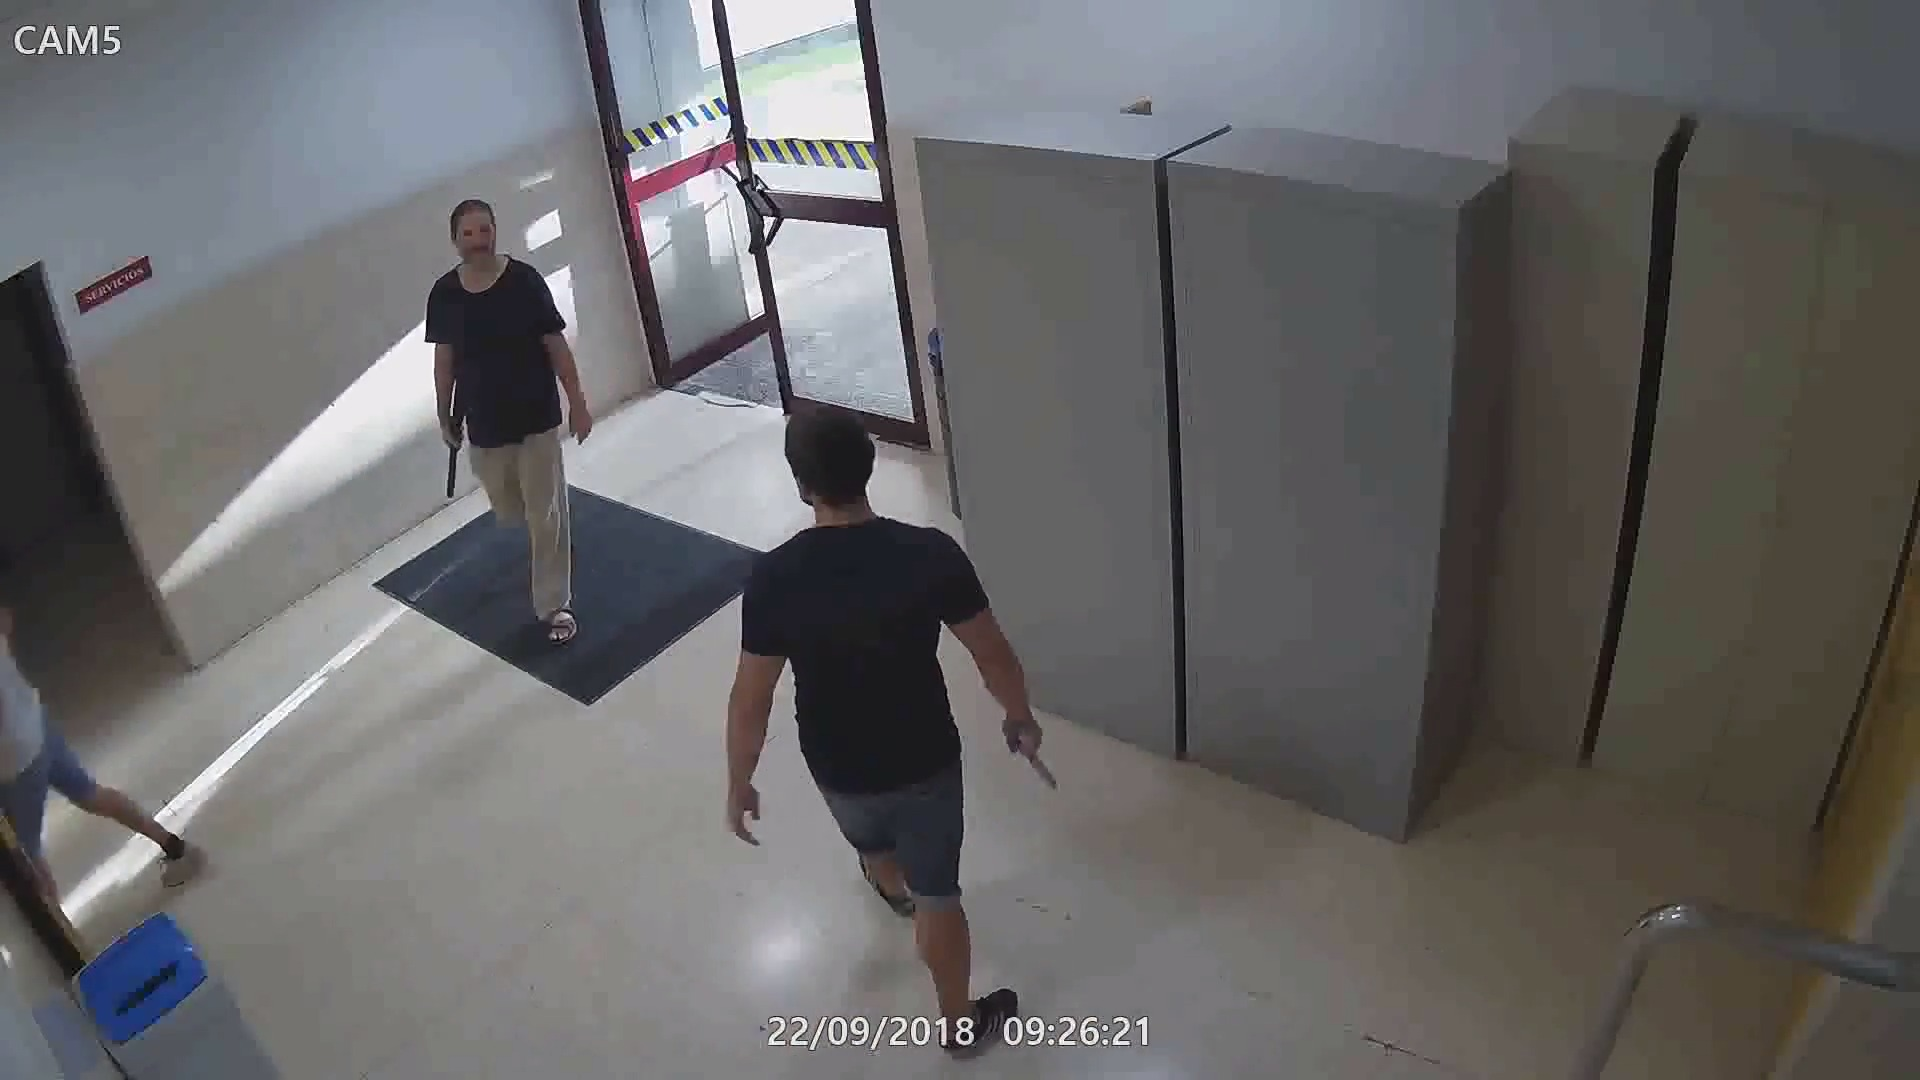Handgun: (986, 699, 1064, 798)
Short_rifle: (439, 364, 469, 508)
